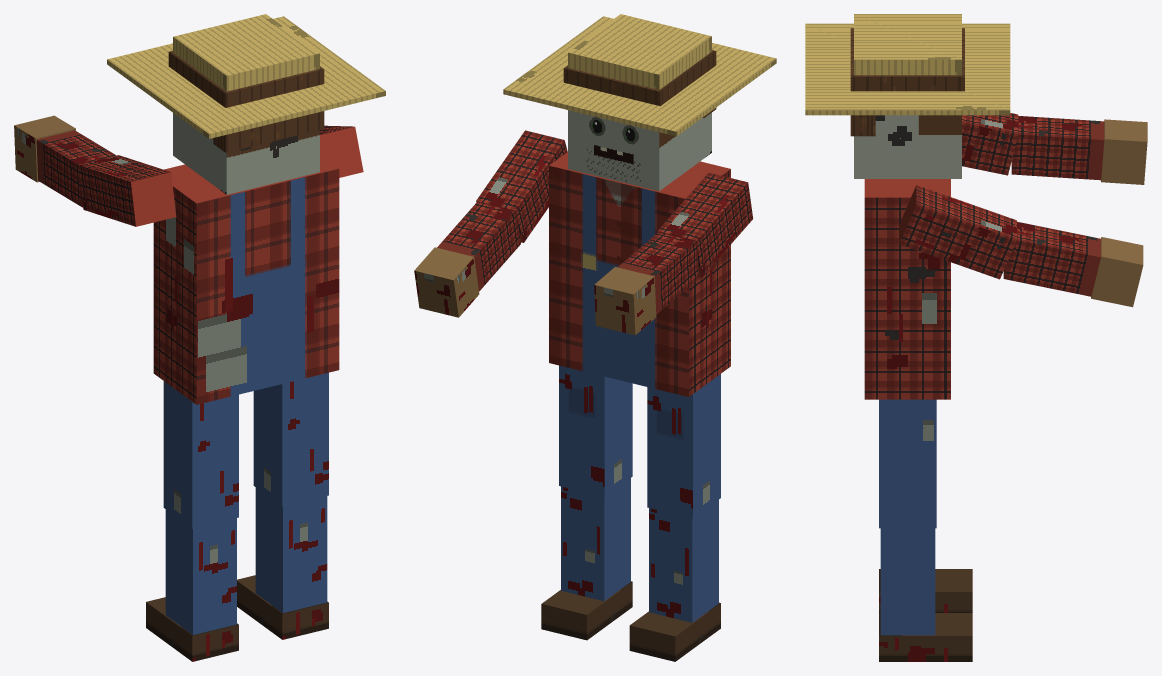
File: wanderer_farmer.glb
3 views of the same model, side by side, from view 1: azimuth 30°, elevation 25°; view 2: azimuth 150°, elevation 25°; view 3: azimuth 270°, elevation 25° (orthographic). The views are drawn at different scales.
Visible parts, largest first — view 1: block_torso, block_hat-brim, block_thigh.L, block_thigh.R, block_shin.R, block_shin.L, block_hat-crown, block_head, block_upper_arm.L, block_forearm.L, block_foot.L, block_hair-cap (+4 smaller); view 2: block_torso, block_hat-brim, block_thigh.L, block_thigh.R, block_head, block_shin.L, block_shin.R, block_hat-crown, block_upper_arm.L, block_upper_arm.R, block_forearm.R, block_hand.R (+5 smaller); view 3: block_torso, block_hat-brim, block_thigh.R, block_upper_arm.R, block_hat-crown, block_head, block_shin.R, block_forearm.L, block_forearm.R, block_foot.R, block_upper_arm.L, block_hand.L (+4 smaller).
Part boxes in pixels (box(x1,y1,x2,y2)): block_torso: box(153, 155, 339, 404); block_hat-brim: box(107, 16, 385, 138); block_thigh.L: box(163, 381, 238, 528); block_thigh.R: box(253, 372, 328, 506); block_shin.R: box(255, 487, 327, 612); block_shin.L: box(165, 509, 236, 634); block_hat-crown: box(173, 14, 319, 91); block_head: box(173, 113, 319, 194); block_upper_arm.L: box(78, 155, 176, 226); block_forearm.L: box(36, 130, 116, 207); block_foot.L: box(146, 597, 238, 661); block_hair-cap: box(168, 51, 324, 107); block_torso: box(549, 152, 730, 396); block_hat-brim: box(503, 16, 776, 136); block_thigh.L: box(647, 374, 720, 518); block_thigh.R: box(559, 365, 632, 496); block_head: box(568, 110, 711, 191); block_shin.L: box(649, 500, 718, 622); block_shin.R: box(561, 478, 630, 601); block_hat-crown: box(568, 14, 711, 89); block_upper_arm.L: box(657, 173, 753, 277); block_upper_arm.R: box(476, 130, 567, 242); block_forearm.R: box(437, 202, 520, 291); block_hand.R: box(414, 247, 479, 317); block_torso: box(864, 179, 950, 399); block_hat-brim: box(805, 23, 1010, 115); block_thigh.R: box(879, 399, 936, 528); block_upper_arm.R: box(899, 185, 1016, 279); block_hat-crown: box(854, 14, 961, 75); block_head: box(854, 115, 961, 178); block_shin.R: box(880, 528, 935, 635); block_forearm.L: box(1011, 116, 1104, 180); block_forearm.R: box(1003, 221, 1100, 296); block_foot.R: box(879, 613, 972, 661); block_upper_arm.L: box(962, 113, 1018, 175); block_hand.L: box(1101, 119, 1147, 184).
Bounding box in the file's own units: 0.728 × 1.82 × 0.9515.
Materials: 1 (1 with a texture image).
